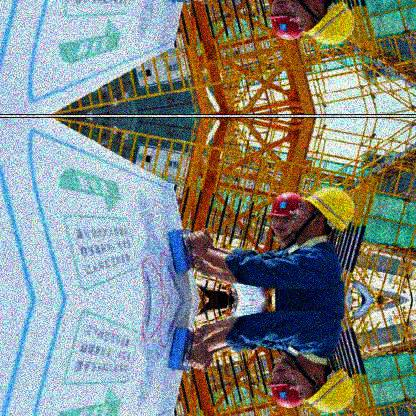helmet: (288, 353, 355, 412), (289, 186, 353, 243), (292, 1, 354, 45), (267, 357, 303, 408), (269, 191, 300, 243), (268, 1, 302, 43)
